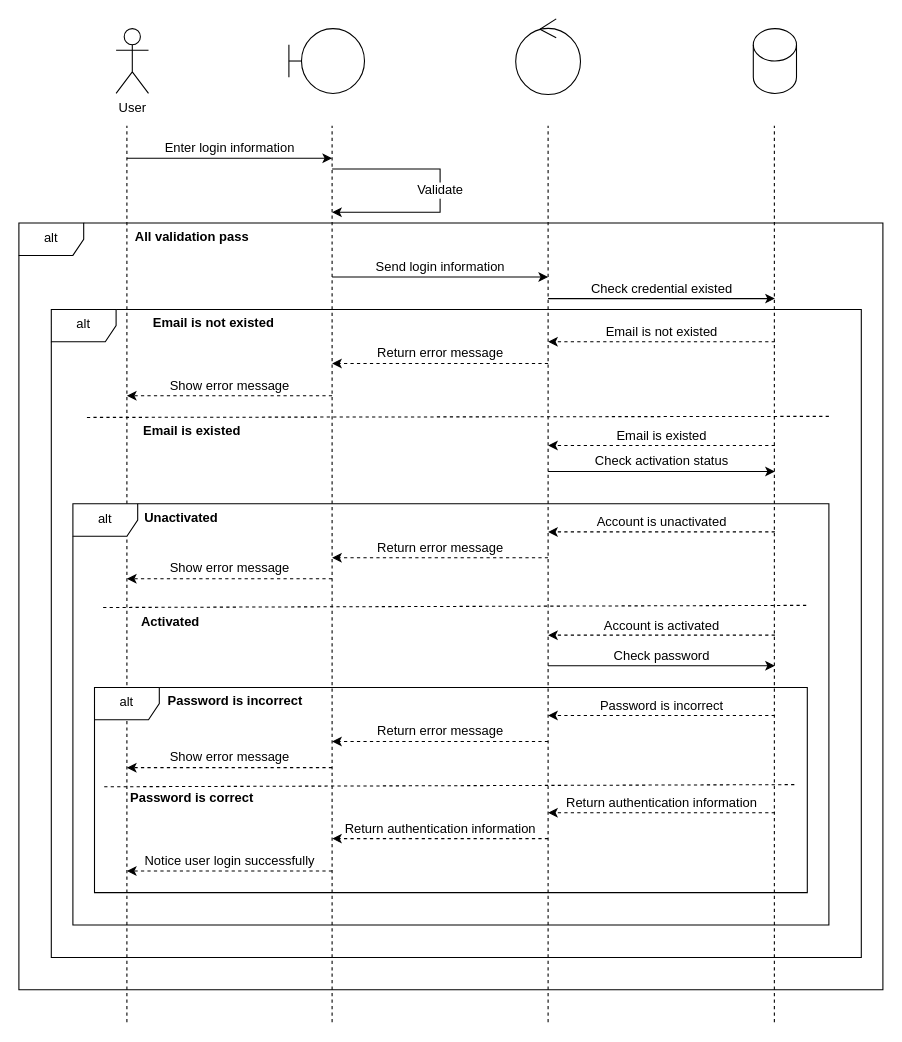
Some shapes in this 902 by 1042 pixel diagram are drawn without their labels. Here are the shapes that lost their labels. From the top down, the centre of each, then its label:
point (326, 60): LoginForm
point (547, 56): LoginController
point (774, 60): User Database
